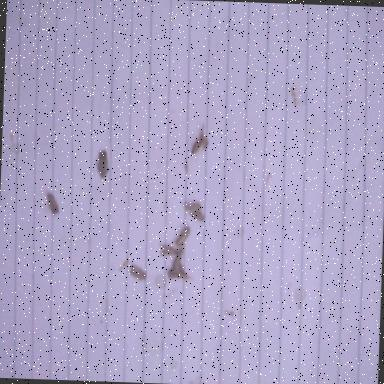pbw: (95, 150, 111, 181), (174, 225, 193, 249), (192, 138, 208, 155), (167, 268, 188, 280), (160, 245, 178, 257), (174, 250, 184, 268)
